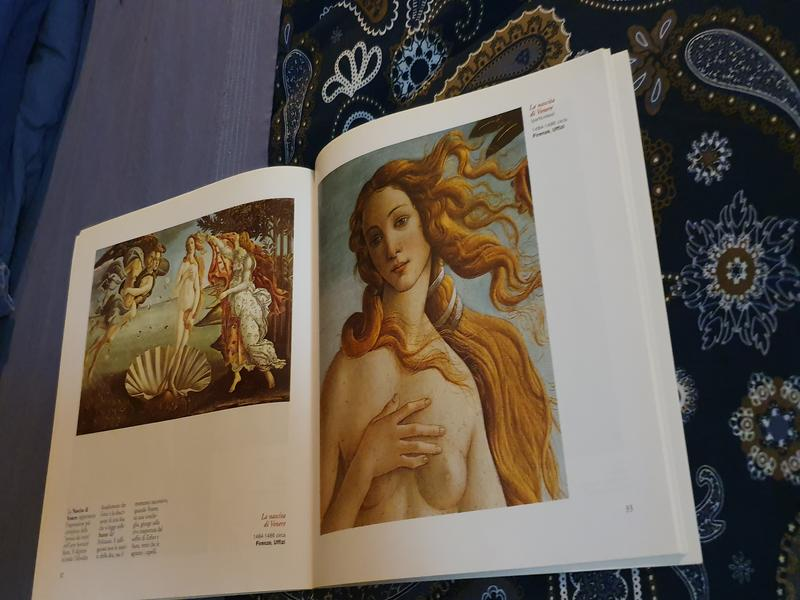Venere: (74, 194, 296, 438)
